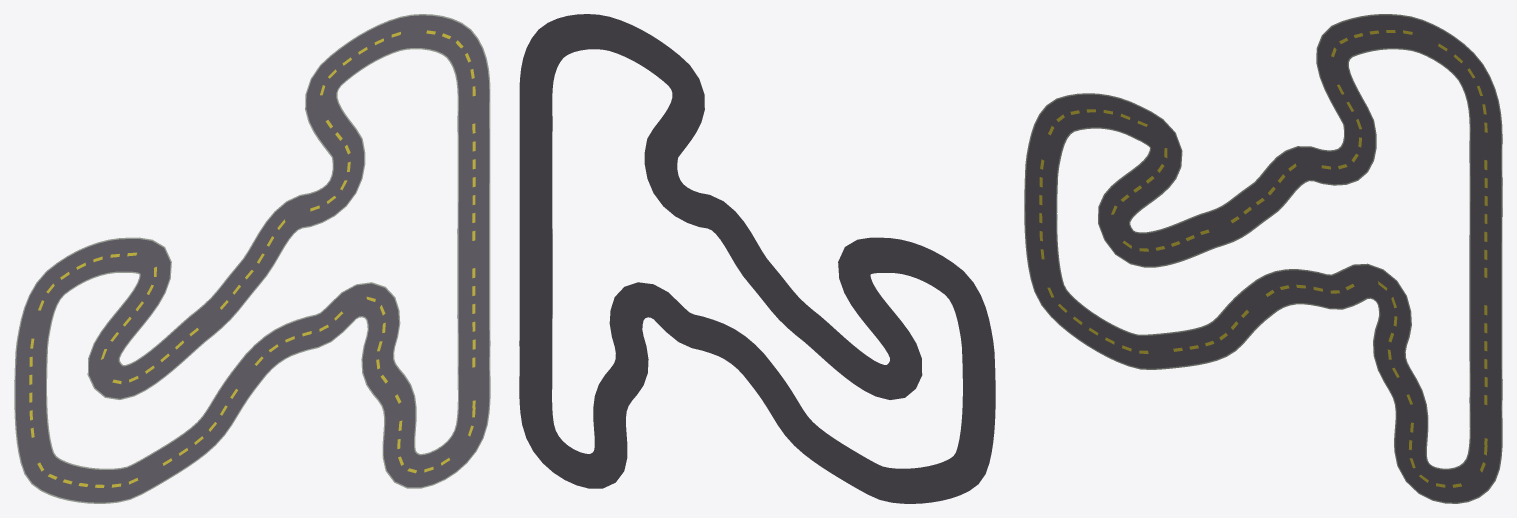
File: track.obj
3 views of the same model, side by side, from view 1: azimuth 30°, elevation 25°; view 2: azimuth 150°, elevation 25°; view 3: azimuth 330°, elevation 25° (orthographic).
Size of the model in its own units: 15.52 by 14.85 by 0.002.
